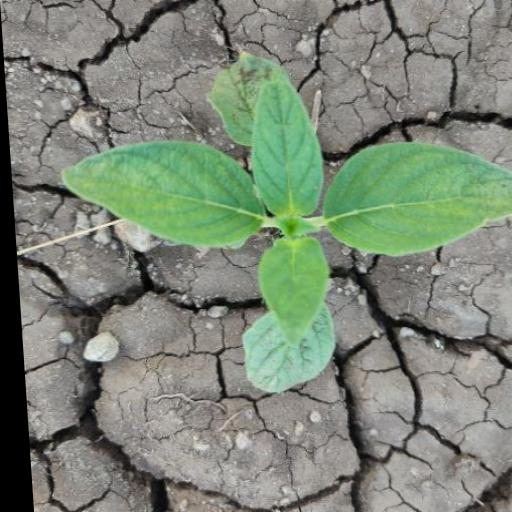crop: (39, 75, 512, 399)
